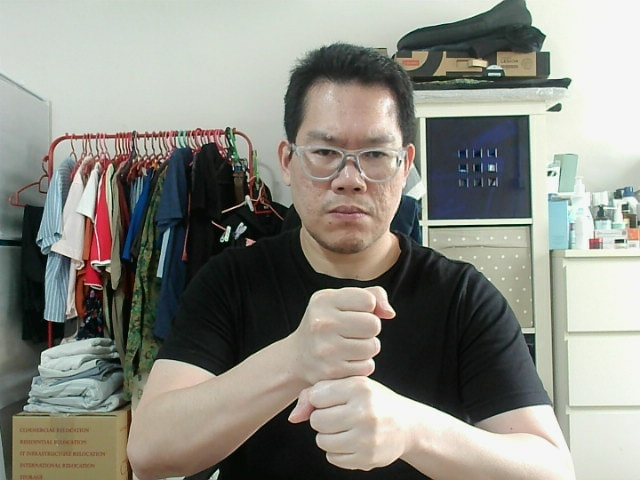get: (293, 294, 387, 372)
